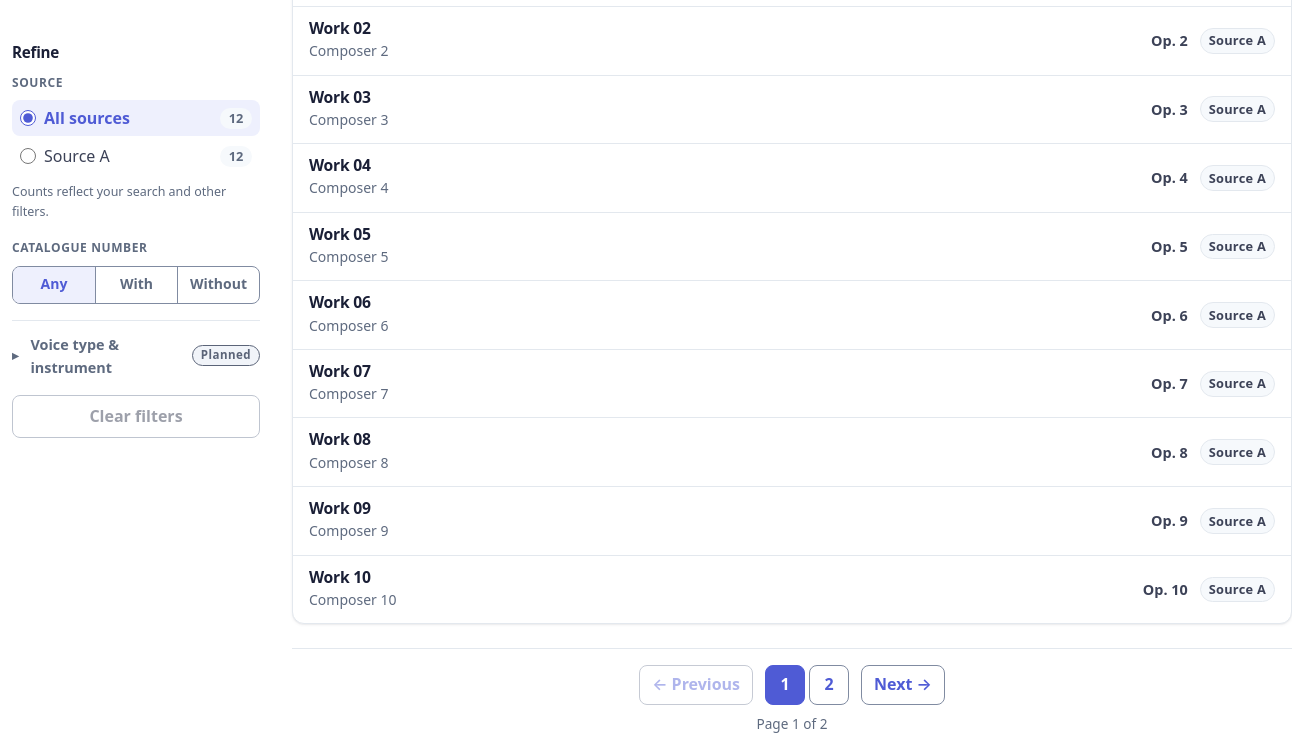
Test: WorkCataloguePage › moves to the next page
The image size is (1292, 735).
(page scrolled)
Click the button "Next →".
click(903, 685)  # box [861,665,945,705]
(page scrolled)
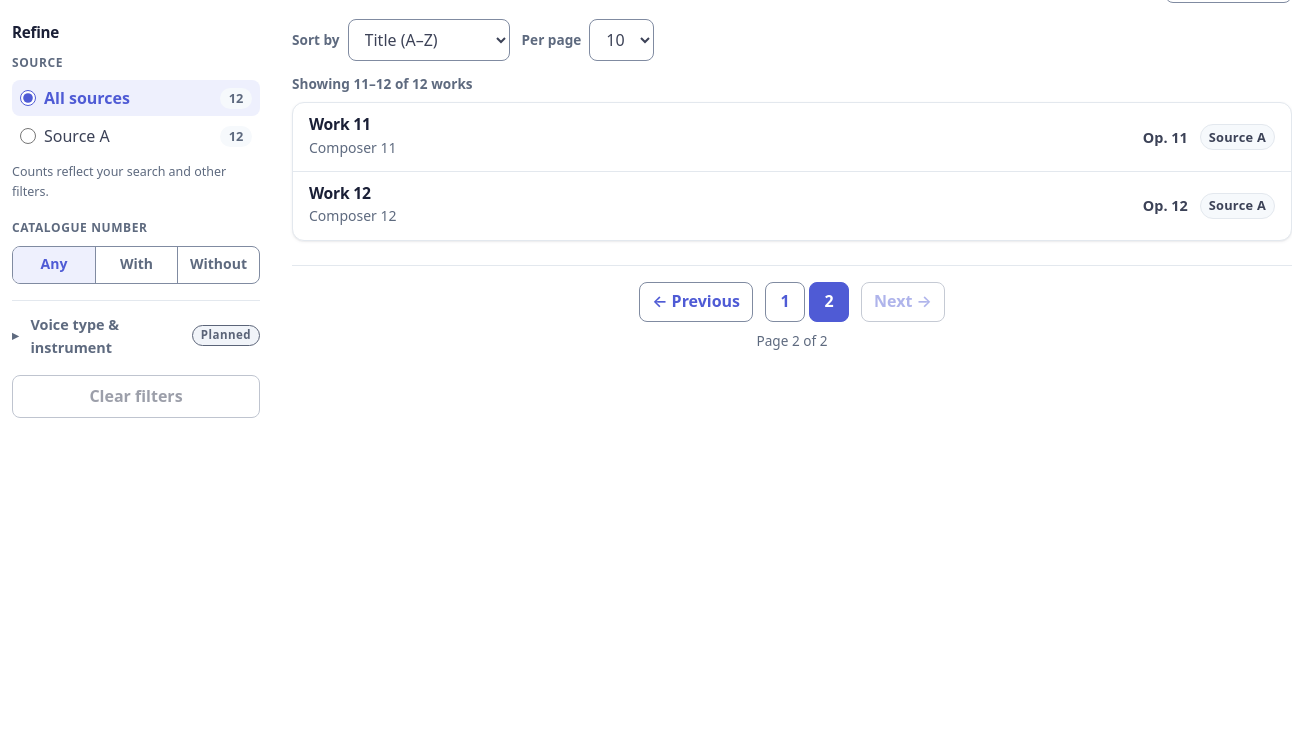
Expected: the text "Showing 11–12 of 12 works" is shown, [292,73,473,94]
